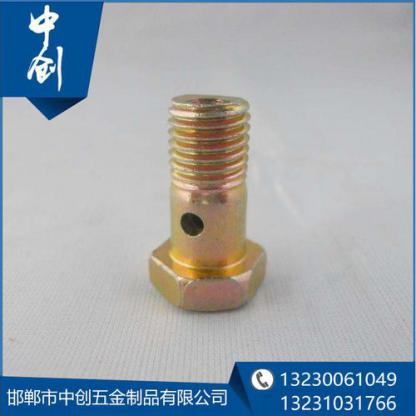FOD: (143, 89, 269, 313)
